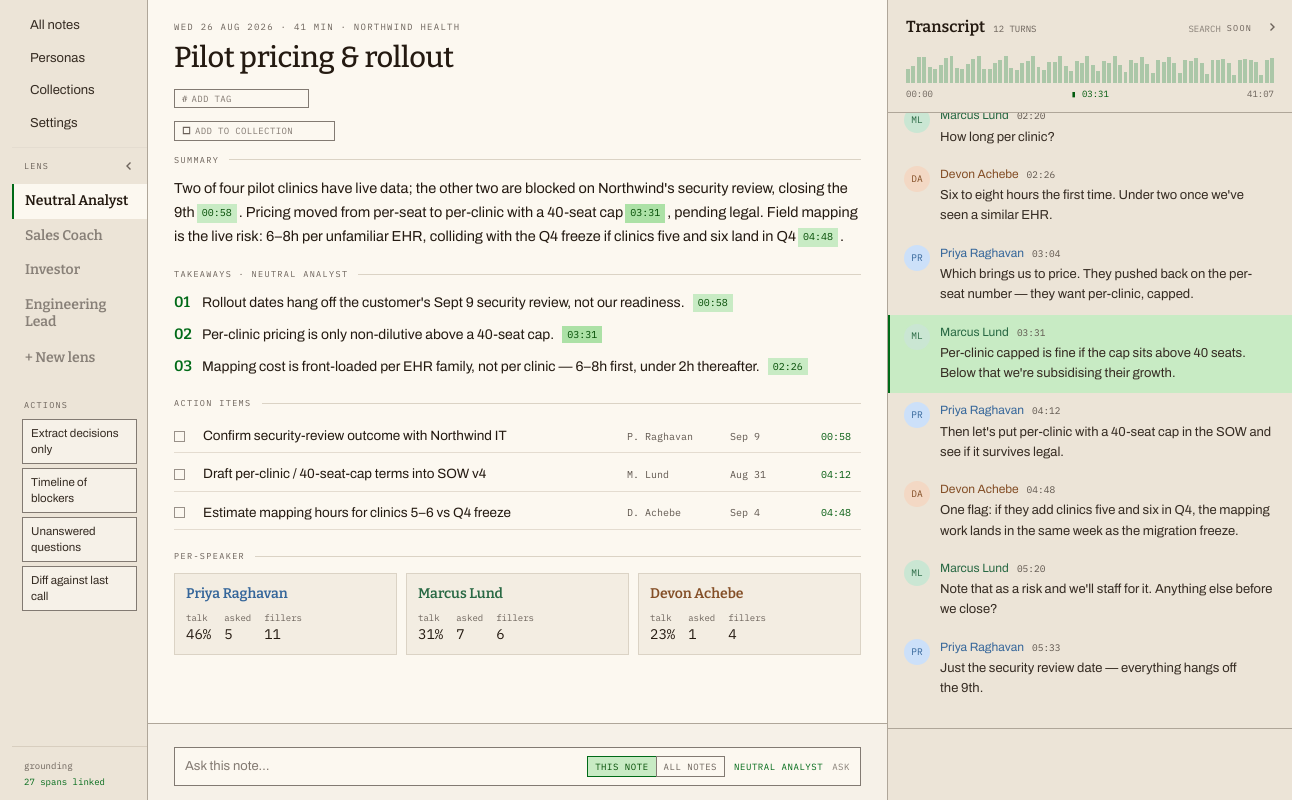
Test case: the keys › types the character inside the chat box instead
(page scrolled)
Type "[ []" into the field labelled "Ask this note…".
click(382, 766); type("[ []")  # box [185,756,578,776]
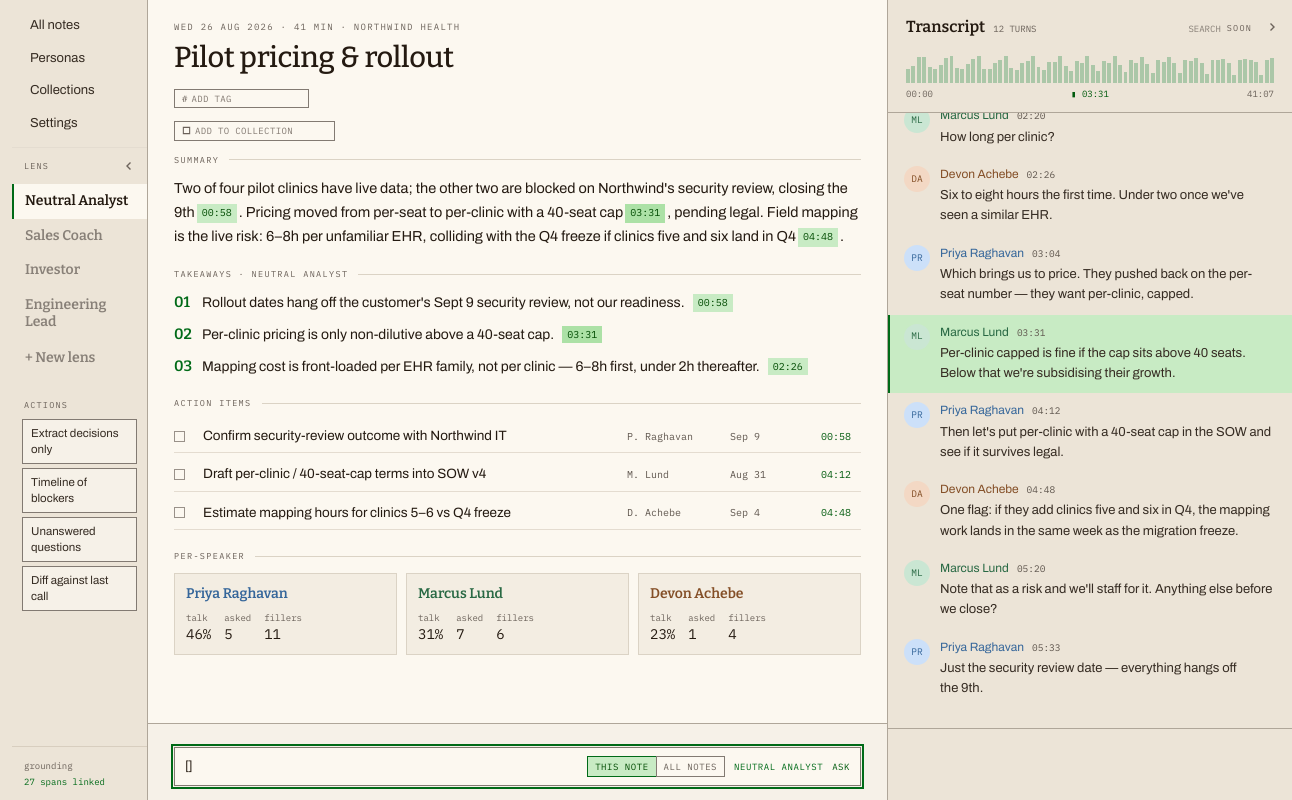
Expected: the element with id "transcript-pane" is shown, [888,0,1291,799]
Result: the field named "Ask" holds "[]" at [185,756,578,776]
